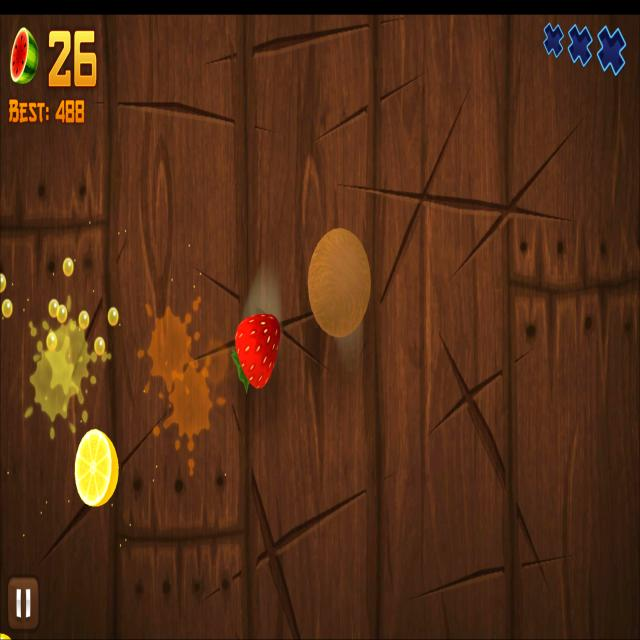fruit: (307, 227, 371, 338), (234, 312, 280, 388)
